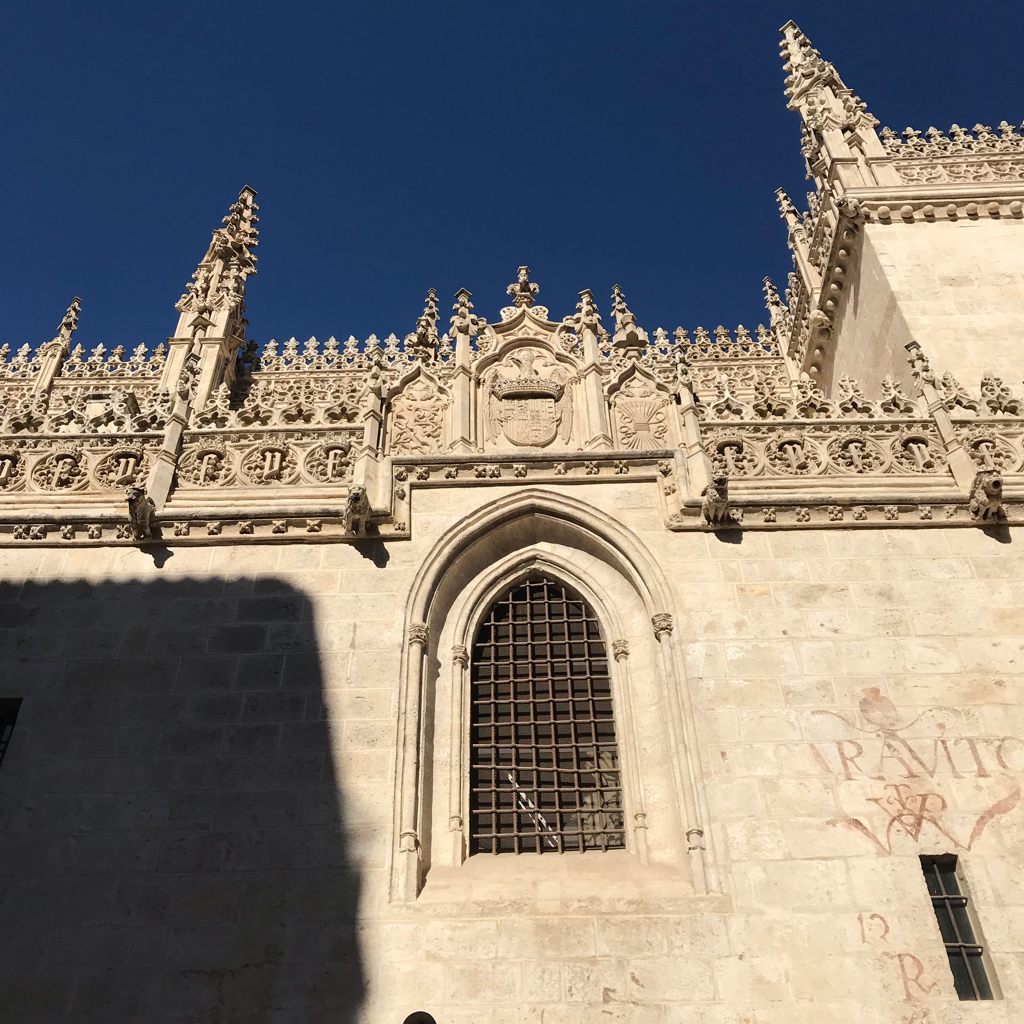arco-apuntado: (405, 484, 658, 679)
pinaculo-gotico: (169, 179, 266, 317), (772, 15, 877, 129)
